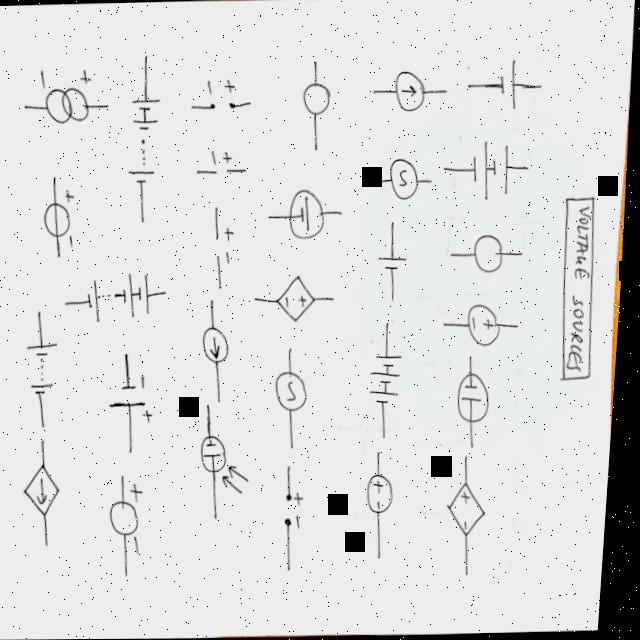source: (74, 254, 170, 343), (123, 60, 178, 207), (200, 415, 260, 505), (29, 59, 101, 134), (108, 471, 163, 565), (110, 363, 169, 447), (366, 331, 421, 419), (279, 173, 339, 253), (21, 450, 75, 536), (465, 131, 525, 207), (23, 324, 71, 415), (447, 476, 504, 551), (273, 350, 324, 431), (41, 174, 86, 257), (379, 62, 441, 121), (375, 148, 431, 213), (366, 464, 413, 539), (484, 50, 533, 121), (293, 68, 343, 136), (454, 368, 503, 437), (197, 304, 245, 374), (272, 269, 327, 330), (459, 228, 514, 283), (277, 480, 322, 544), (372, 236, 420, 294), (461, 299, 512, 349), (194, 76, 248, 123), (208, 212, 242, 272), (201, 141, 245, 184)
